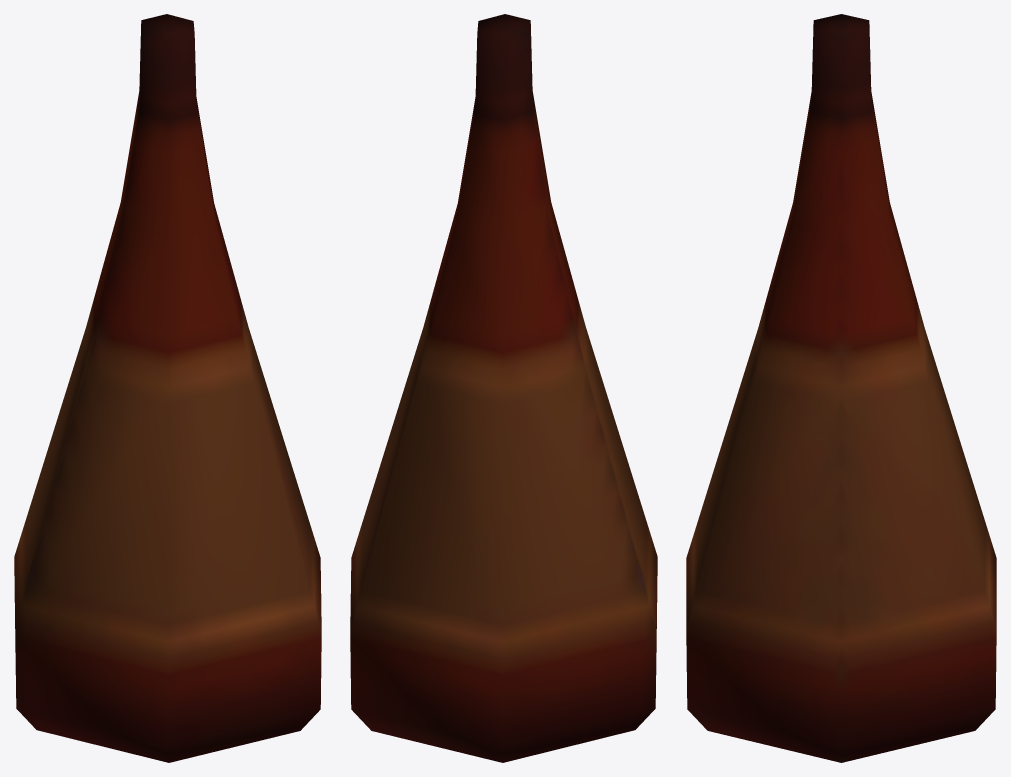
File: Wine_01.gltf
3 views of the same model, side by side, from view 1: azimuth 30°, elevation 25°; view 2: azimuth 150°, elevation 25°; view 3: azimuth 270°, elevation 25° (orthographic).
Parts seen in each view (by area): view 1: Wine_01; view 2: Wine_01; view 3: Wine_01.
Part boxes in pixels (x1=…): Wine_01: x1=14, y1=14, x2=321, y2=762; Wine_01: x1=350, y1=14, x2=657, y2=762; Wine_01: x1=686, y1=14, x2=996, y2=762.
Bounding box in the file's own units: 7.61 × 15.97 × 6.68.
1 material, 1 textured.
